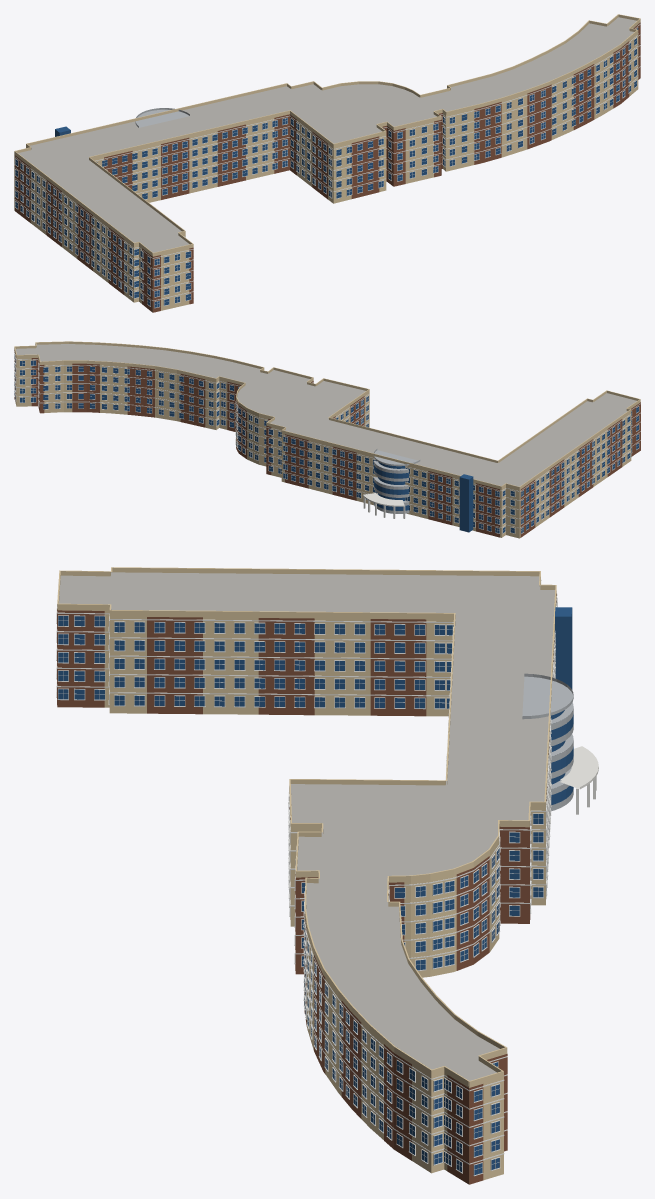
File: andromeda_hall.glb
3 renders of one model, top to bottom at view 1: azimuth 30°, elevation 25°; view 2: azimuth 150°, elevation 25°; view 3: azimuth 270°, elevation 25°, orthographic. The views are drawn at different scales.
Parts seen in each view (by area): view 1: andromeda_hall_Roof_Membrane, andromeda_hall_Wall_beigeStucco, andromeda_hall_Trim_White, andromeda_hall_Wall_brick, andromeda_hall_Glass_blue, andromeda_hall_Metal_Drum; view 2: andromeda_hall_Roof_Membrane, andromeda_hall_Wall_beigeStucco, andromeda_hall_Trim_White, andromeda_hall_Wall_brick, andromeda_hall_Glass_blue, andromeda_hall_Metal_Drum, andromeda_hall_Canopy_White; view 3: andromeda_hall_Roof_Membrane, andromeda_hall_Wall_beigeStucco, andromeda_hall_Wall_brick, andromeda_hall_Trim_White, andromeda_hall_Glass_blue, andromeda_hall_Metal_Drum, andromeda_hall_Canopy_White.
Boxes of the visible parts, box(x1,y1,x2,y2) form: andromeda_hall_Roof_Membrane: box(18, 17, 636, 252); andromeda_hall_Wall_beigeStucco: box(14, 14, 640, 312); andromeda_hall_Trim_White: box(14, 23, 640, 308); andromeda_hall_Wall_brick: box(15, 22, 640, 312); andromeda_hall_Glass_blue: box(15, 28, 638, 307); andromeda_hall_Metal_Drum: box(135, 108, 189, 127); andromeda_hall_Roof_Membrane: box(15, 344, 636, 486); andromeda_hall_Wall_beigeStucco: box(14, 341, 640, 538); andromeda_hall_Trim_White: box(14, 351, 640, 533); andromeda_hall_Wall_brick: box(14, 350, 640, 537); andromeda_hall_Glass_blue: box(14, 354, 638, 533); andromeda_hall_Metal_Drum: box(373, 449, 420, 513); andromeda_hall_Canopy_White: box(363, 493, 404, 506); andromeda_hall_Roof_Membrane: box(59, 572, 554, 1080); andromeda_hall_Wall_beigeStucco: box(57, 567, 556, 1184); andromeda_hall_Wall_brick: box(57, 594, 556, 1184); andromeda_hall_Trim_White: box(56, 579, 596, 1176); andromeda_hall_Glass_blue: box(58, 607, 573, 1175); andromeda_hall_Metal_Drum: box(522, 673, 573, 811); andromeda_hall_Canopy_White: box(560, 746, 598, 789).
Size of the model in its own units: 218 by 21.41 by 97.05.
